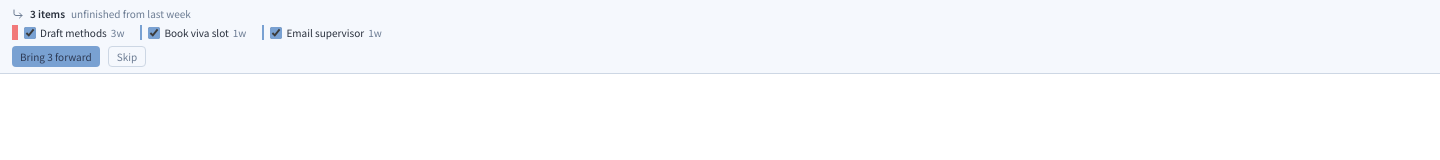
Test: unticking follows the item, not the position › counts the button down by one
This screenshot has width=1440, height=160.
Click the checkbox named "Book viva slot carried 1 week" at {"x": 154, "y": 32}, box [148, 26, 160, 38]
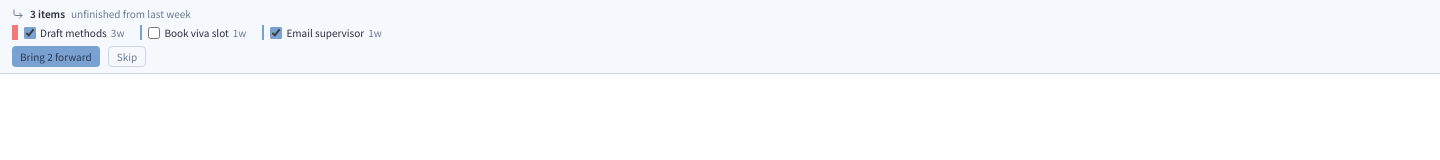
Expected: the button "Bring 2 forward" is shown, [12, 46, 100, 67]
